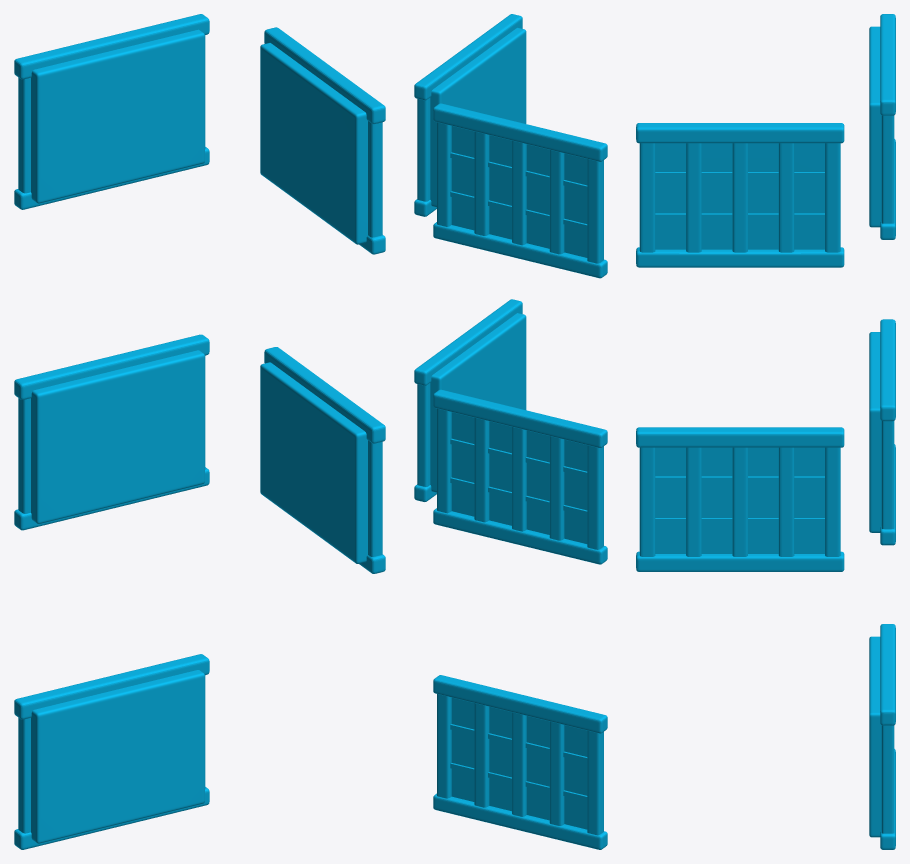
File: SM_Wood_Window_04.fbx
3 renders of one model, left to right at view 1: azimuth 30°, elevation 25°; view 2: azimuth 150°, elevation 25°; view 3: azimuth 270°, elevation 25°, orthographic. The views are drawn at different scales.
Visible parts, largest first — view 1: SM_Wood_Window_04; view 2: SM_Wood_Window_04; view 3: SM_Wood_Window_04.
Part boxes in pixels (left/top/right/bottom): SM_Wood_Window_04: left=14, top=14, right=385, bottom=849; SM_Wood_Window_04: left=414, top=14, right=607, bottom=849; SM_Wood_Window_04: left=636, top=14, right=895, bottom=849.
Size of the model in its own units: 1.94 by 6.15 by 1.93.
